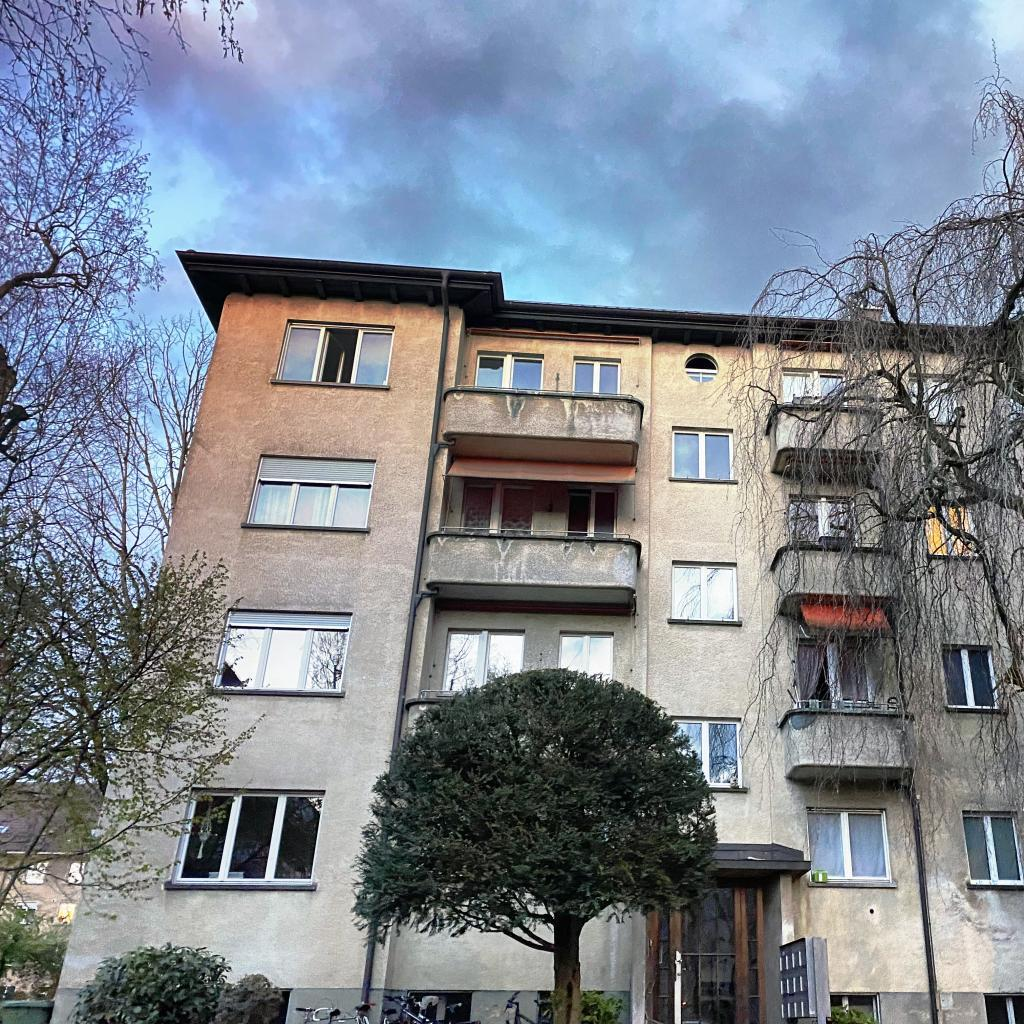balcony-fence: (440, 525, 631, 538), (765, 400, 879, 421), (456, 384, 635, 397), (791, 700, 903, 709), (784, 538, 900, 546), (420, 688, 482, 700)
facade: (0, 250, 1024, 1024)
non-building-infrastructure: (779, 936, 832, 1024), (0, 1001, 53, 1024)
vegetation: (698, 38, 1024, 913), (0, 0, 269, 996), (351, 668, 719, 1024), (68, 943, 284, 1023), (827, 1008, 881, 1024)
window: (653, 878, 766, 1024), (172, 788, 326, 883), (211, 610, 352, 692), (246, 454, 376, 528), (276, 320, 395, 386), (806, 808, 891, 883), (443, 630, 525, 695), (798, 640, 876, 705), (962, 811, 1024, 886), (671, 721, 739, 784), (461, 481, 534, 535), (672, 563, 737, 621), (941, 646, 998, 707), (790, 497, 857, 547), (560, 632, 613, 695), (672, 429, 734, 480), (925, 504, 980, 556), (476, 354, 544, 390), (568, 489, 616, 538), (911, 376, 960, 424), (782, 371, 847, 406), (409, 991, 472, 1019), (575, 359, 620, 395), (831, 993, 881, 1022), (985, 994, 1024, 1024), (11, 901, 37, 924), (23, 861, 49, 884), (55, 902, 77, 925), (685, 368, 718, 383), (278, 989, 291, 1024), (65, 863, 85, 885), (0, 825, 9, 835)
